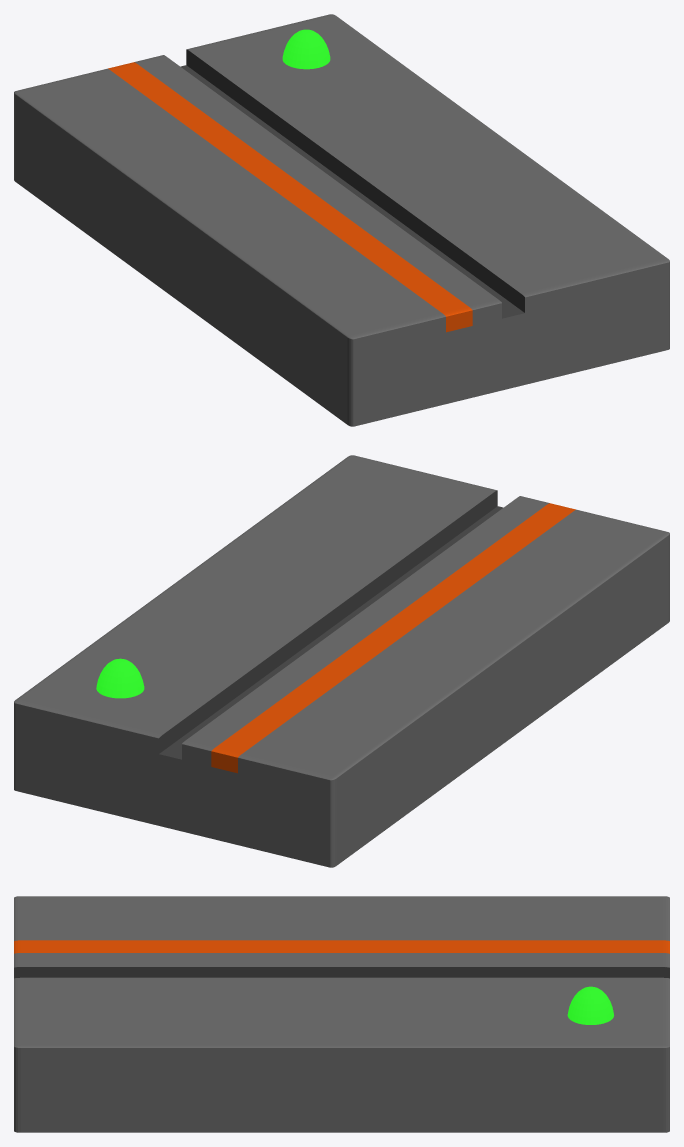
Rendered from OrangeKeyCardScannerGL.glb.
The picture shows the model from 3 angles, top to bottom: view 1: azimuth 30°, elevation 25°; view 2: azimuth 150°, elevation 25°; view 3: azimuth 270°, elevation 25°; orthographic projection. The views are drawn at different scales.
Visible parts, largest first — view 1: Base, Light; view 2: Base, Light; view 3: Base, Light.
Part boxes in pixels (x1,y1,x2,y2): Base: (14, 14, 669, 426); Light: (282, 29, 330, 69); Base: (14, 455, 669, 867); Light: (96, 658, 144, 698); Base: (14, 896, 669, 1132); Light: (567, 986, 613, 1024).
Size of the model in its own units: 0.055 by 0.0192 by 0.1006.
